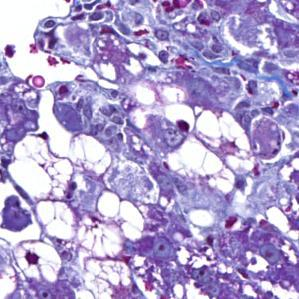ballooning: (160, 104, 258, 197), (70, 190, 147, 262), (9, 134, 76, 202), (11, 237, 64, 287)
